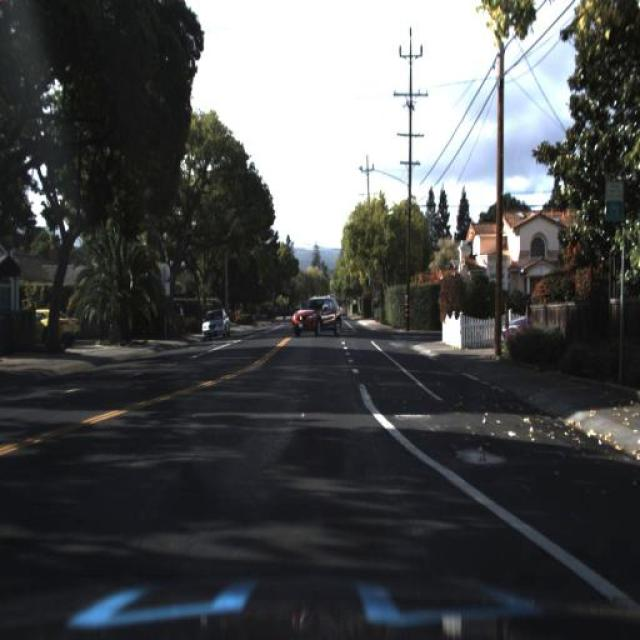car: (20, 285, 85, 355), (194, 296, 236, 346), (291, 291, 343, 331)
